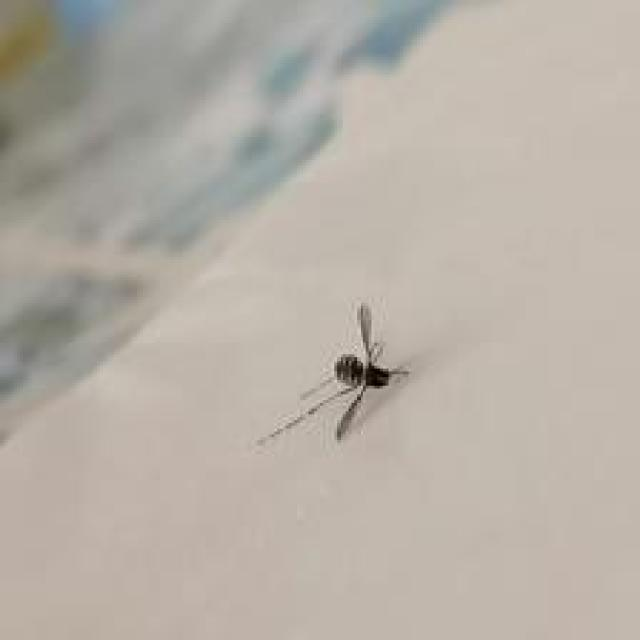Aedes albopictus: (254, 300, 412, 449)
